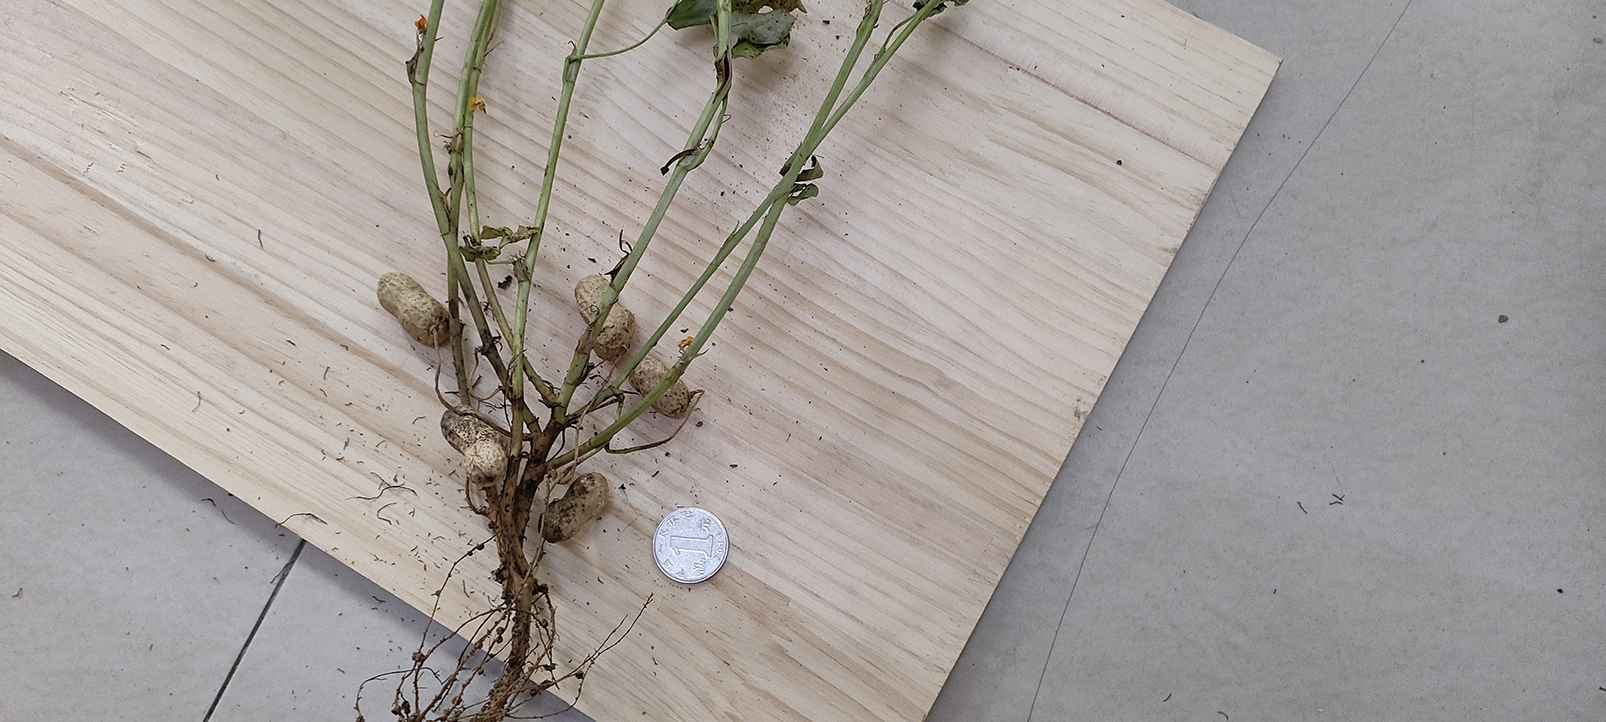h: (378, 273, 451, 345), (573, 275, 634, 359), (441, 406, 507, 483), (630, 359, 688, 414)
l: (539, 472, 609, 541)
